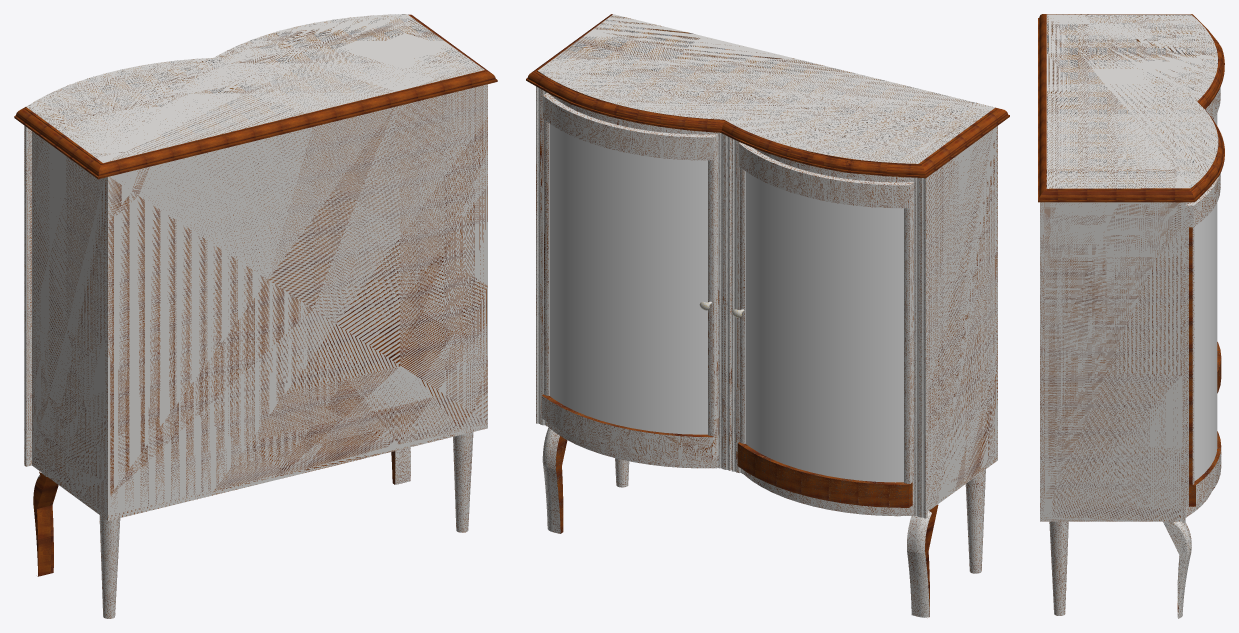
The picture shows the model from 3 angles, left to right: view 1: azimuth 30°, elevation 25°; view 2: azimuth 150°, elevation 25°; view 3: azimuth 270°, elevation 25°; orthographic projection. The views are drawn at different scales.
Visible parts, largest first — view 1: mesh1_mesh1-geometry, mesh4_mesh4-geometry; view 2: mesh1_mesh1-geometry, mesh4_mesh4-geometry; view 3: mesh1_mesh1-geometry, mesh4_mesh4-geometry.
Part boxes in pixels (x1=…): mesh1_mesh1-geometry: x1=14, y1=14, x2=497, y2=618; mesh4_mesh4-geometry: x1=26, y1=14, x2=484, y2=162; mesh1_mesh1-geometry: x1=526, y1=14, x2=1009, y2=617; mesh4_mesh4-geometry: x1=538, y1=14, x2=995, y2=163; mesh1_mesh1-geometry: x1=1038, y1=14, x2=1224, y2=618; mesh4_mesh4-geometry: x1=1046, y1=14, x2=1218, y2=188.
Size of the model in its own units: 0.5086 by 0.5611 by 0.22.
